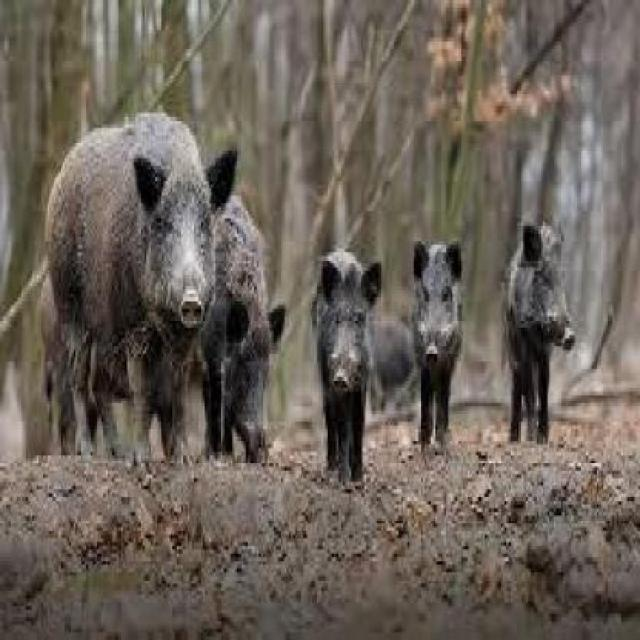wildboar: (43, 101, 248, 482), (33, 193, 292, 475), (306, 236, 385, 502), (494, 215, 577, 453), (402, 229, 473, 460), (338, 302, 436, 443)
